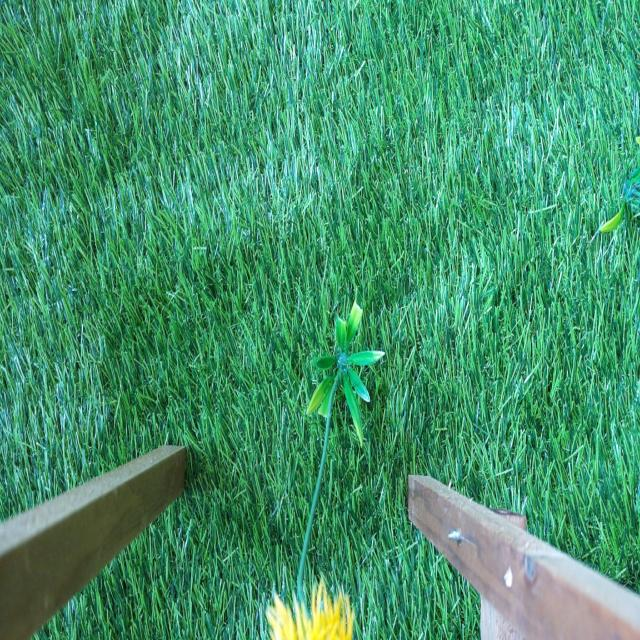base: (307, 300, 383, 446), (601, 168, 640, 239)
flower: (266, 578, 356, 640)
